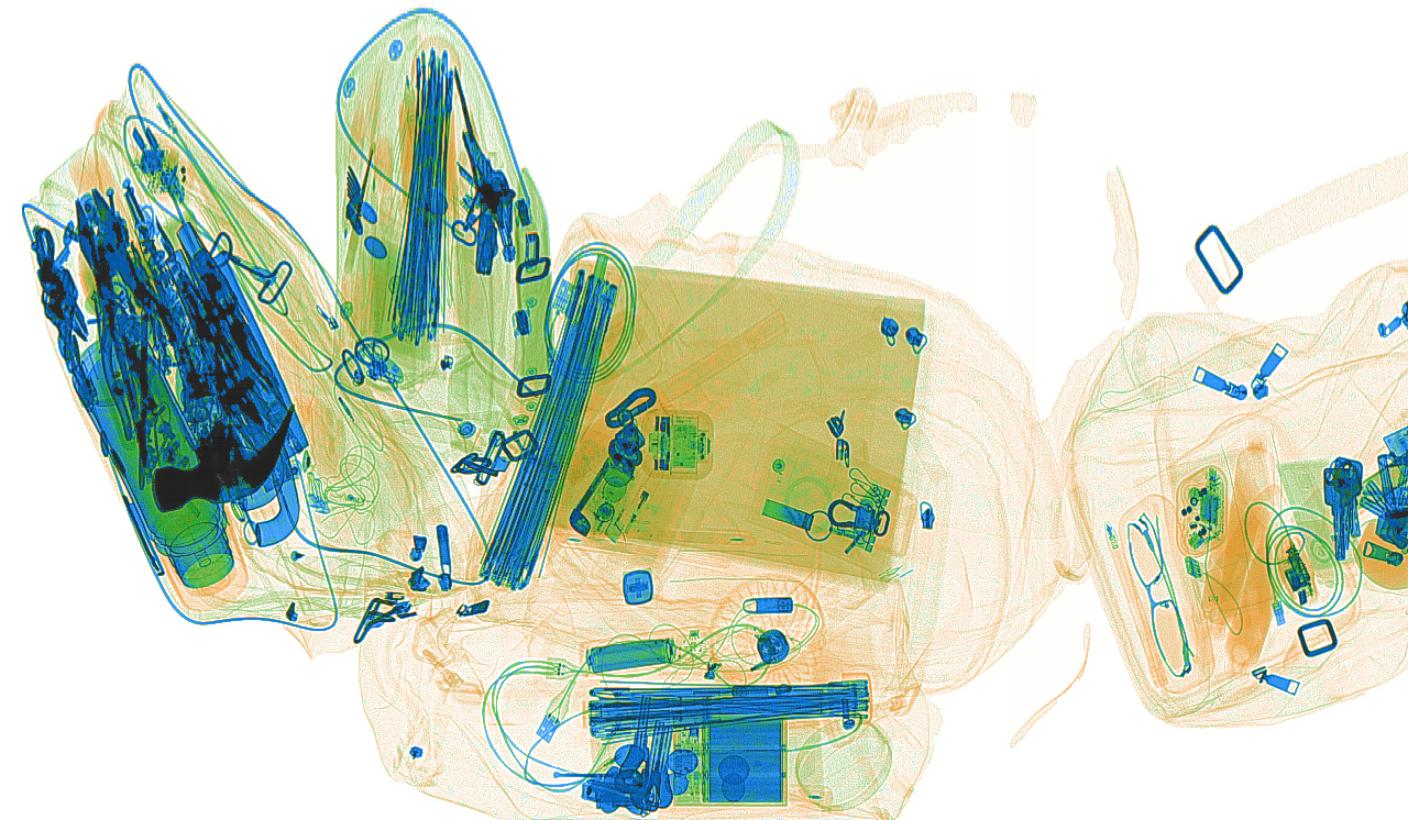battery: (670, 716, 785, 807), (584, 636, 674, 674)
lighter: (602, 444, 673, 544)
